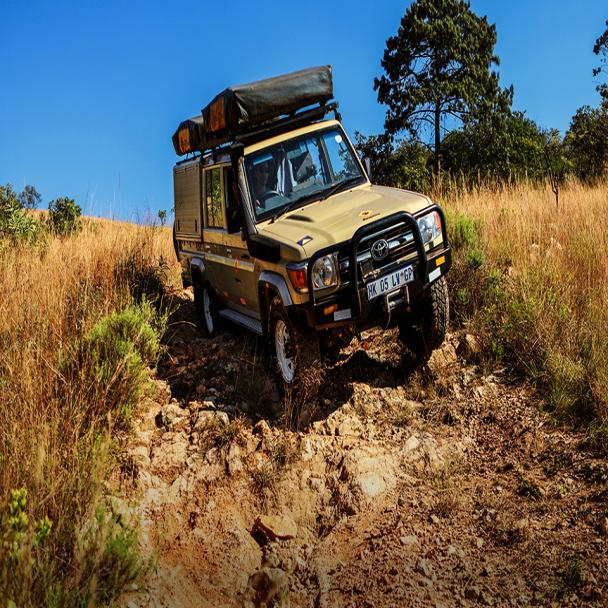Mobil: (171, 78, 452, 382)
